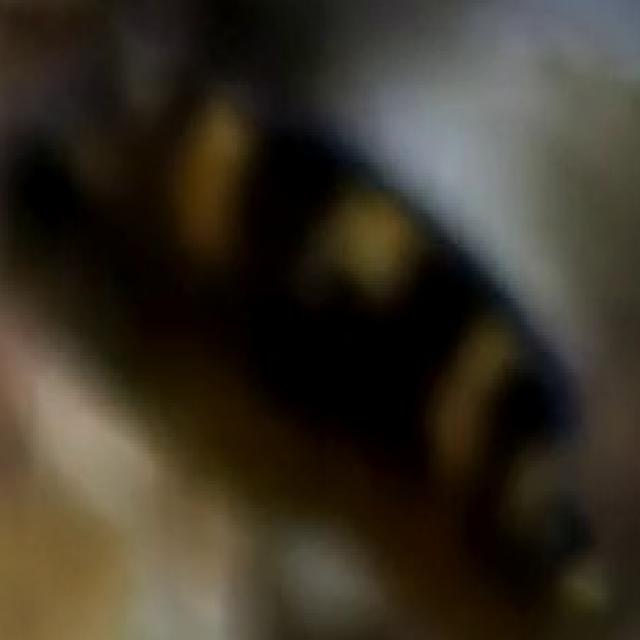fish: (0, 3, 637, 640)
